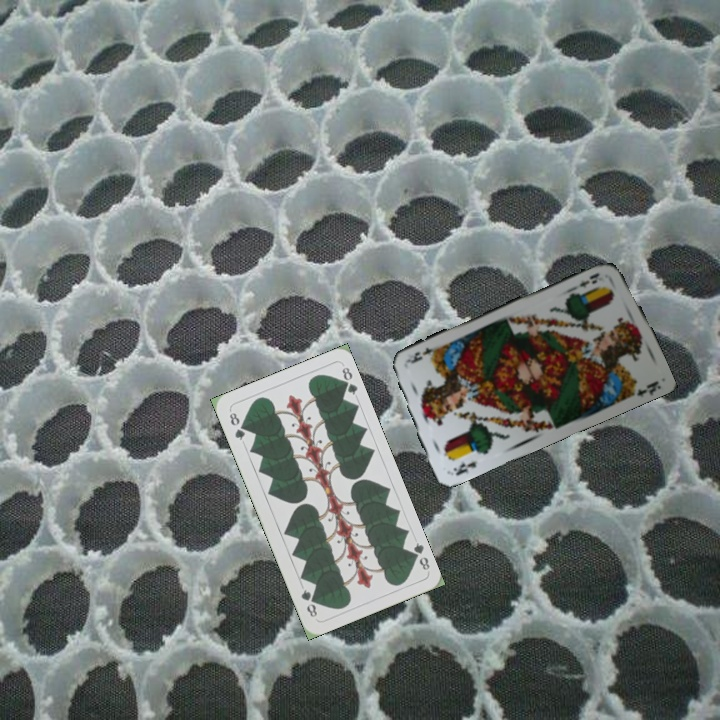EK: (449, 457, 480, 478), (575, 269, 602, 291)
G8: (406, 538, 432, 573), (225, 408, 248, 443)
